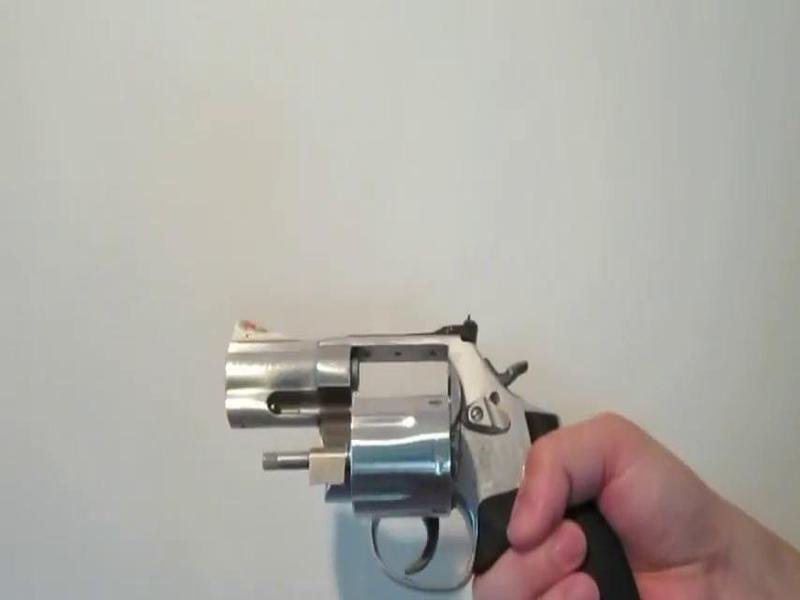Revolver: (191, 305, 602, 600)
